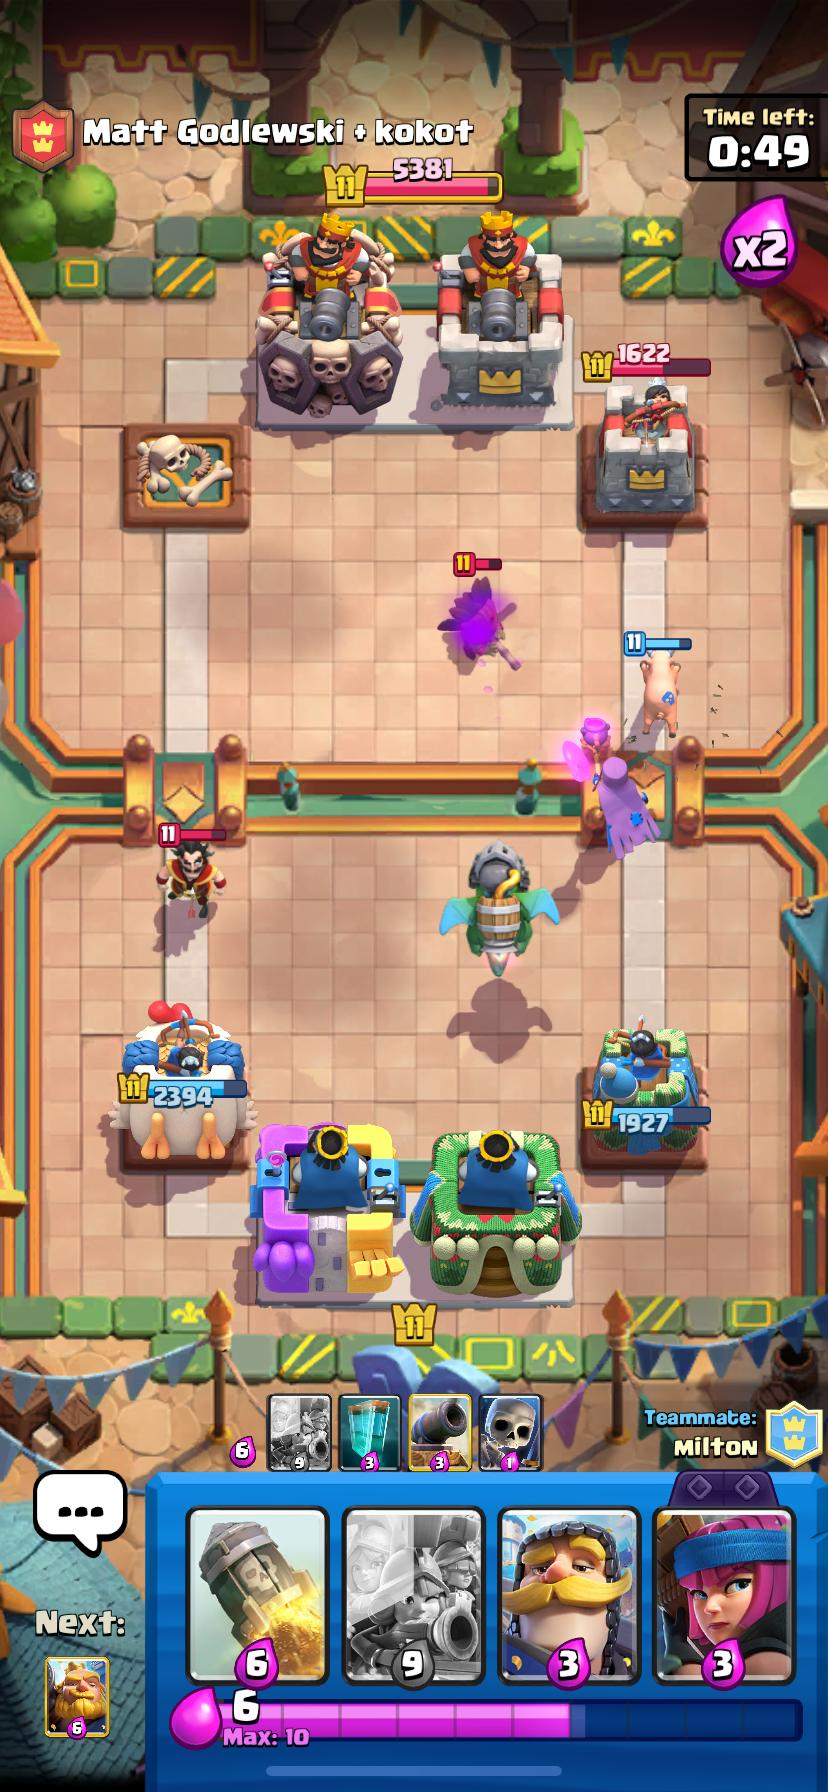EDartGoblin: (438, 575, 520, 669)
EEletrcoWizard: (156, 838, 225, 918)
EKingTower: (256, 213, 401, 419), (436, 213, 565, 408)
EnemyPrincessTower: (596, 379, 693, 520)
OHog: (640, 651, 680, 738)
OInfernoDrag: (441, 840, 559, 977)
OMotherWitch: (597, 757, 659, 859)
OwnKingTower: (411, 1129, 581, 1295), (253, 1123, 403, 1301)
OwnPrincessTower: (109, 1001, 255, 1160), (580, 1018, 710, 1167)
TowerDown: (124, 423, 250, 528)
